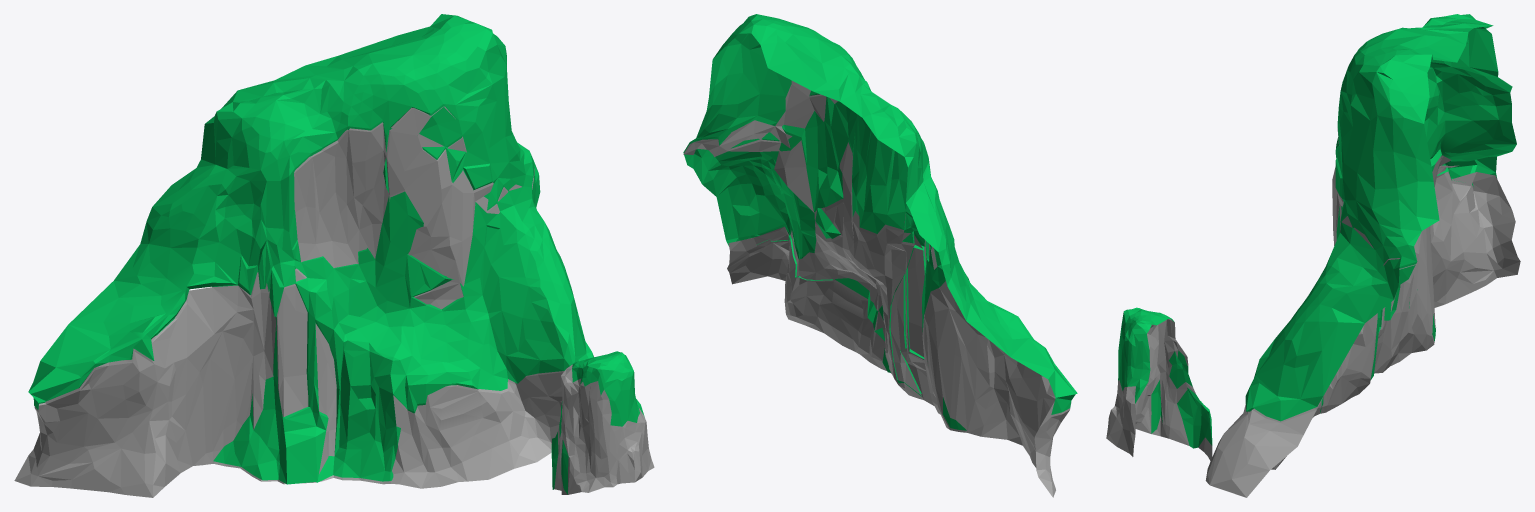
The model's file is ENV_Mountain_01_Grass.fbx.
3 views of the same model, side by side, from view 1: azimuth 30°, elevation 25°; view 2: azimuth 150°, elevation 25°; view 3: azimuth 270°, elevation 25° (orthographic). The views are drawn at different scales.
Visible parts, largest first — view 1: ENV_Mountain_01_Grass_Grass, ENV_Mountain_01_Grass_Rock; view 2: ENV_Mountain_01_Grass_Grass, ENV_Mountain_01_Grass_Rock; view 3: ENV_Mountain_01_Grass_Grass, ENV_Mountain_01_Grass_Rock.
Part boxes in pixels (x1,y1,x2,y2): ENV_Mountain_01_Grass_Grass: (28, 14, 593, 484); ENV_Mountain_01_Grass_Rock: (14, 106, 654, 497); ENV_Mountain_01_Grass_Grass: (683, 14, 1077, 430); ENV_Mountain_01_Grass_Rock: (683, 81, 1071, 497); ENV_Mountain_01_Grass_Grass: (1245, 14, 1516, 421); ENV_Mountain_01_Grass_Rock: (1106, 128, 1520, 497).
Bounding box in the file's own units: 3962 × 3082 × 2765.
